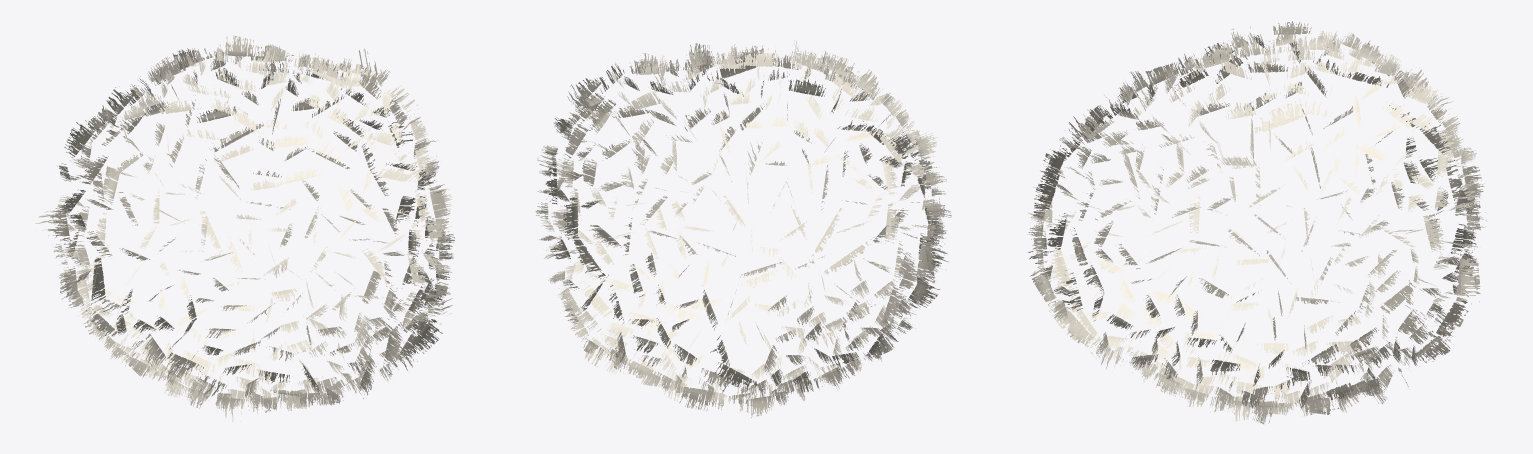
File: run93_groomlab_export_REJECTED.glb
The picture shows the model from 3 angles, left to right: view 1: azimuth 30°, elevation 25°; view 2: azimuth 150°, elevation 25°; view 3: azimuth 270°, elevation 25°; orthographic projection. The views are drawn at different scales.
Visible parts, largest first — view 1: owl172_run93_low; view 2: owl172_run93_low; view 3: owl172_run93_low.
Boxes of the visible parts, bbox=[...] form: owl172_run93_low: bbox=[35, 35, 454, 422]; owl172_run93_low: bbox=[535, 40, 951, 417]; owl172_run93_low: bbox=[1028, 21, 1487, 424].
Size of the model in its own units: 1.32 by 1.2 by 1.41.
Materials: 1 (1 with a texture image).
